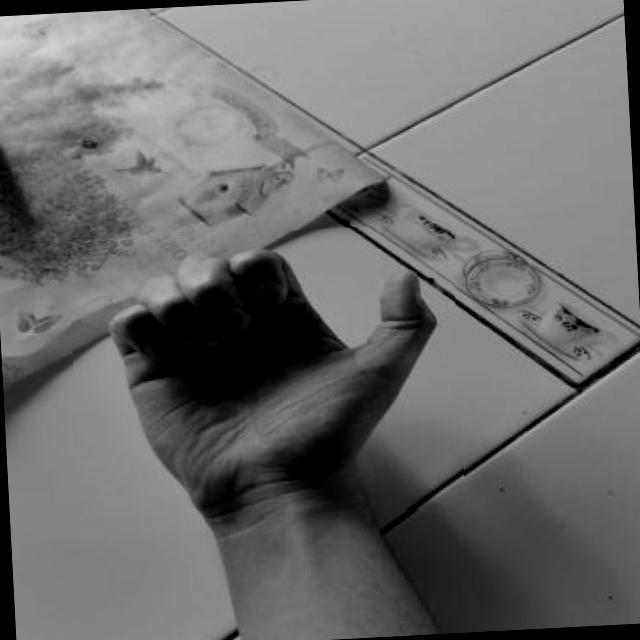E: (67, 222, 466, 528)
